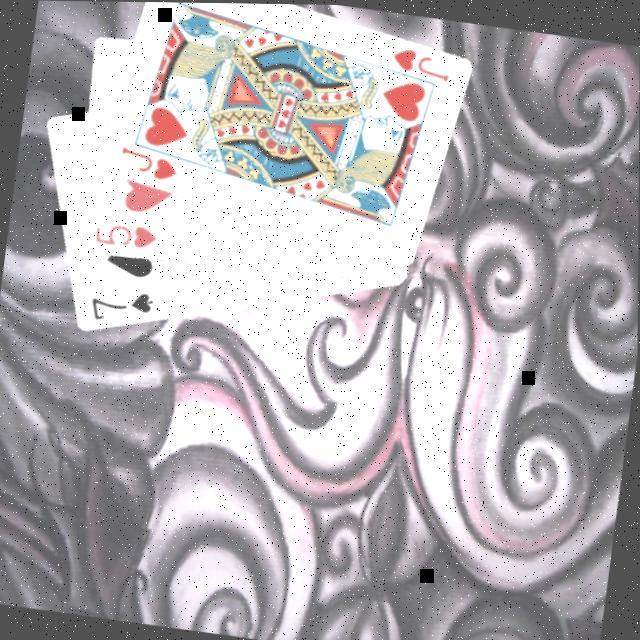5H: (90, 216, 161, 253)
7S: (85, 280, 157, 330)
JH: (114, 140, 182, 185), (387, 41, 455, 84)
